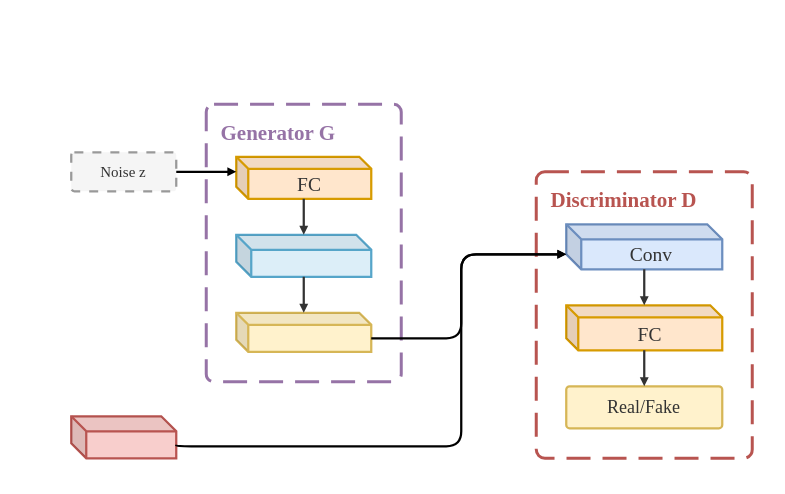
The diagram is 785 pixels wide and 494 high, and some of its shapes have lost their labels. The shapes that lost their labels are listed below. From the top down, each one's centre as x and y in pixels, then its label:
point (303, 255): Deconv
point (303, 331): Fake x
point (123, 436): Real x
